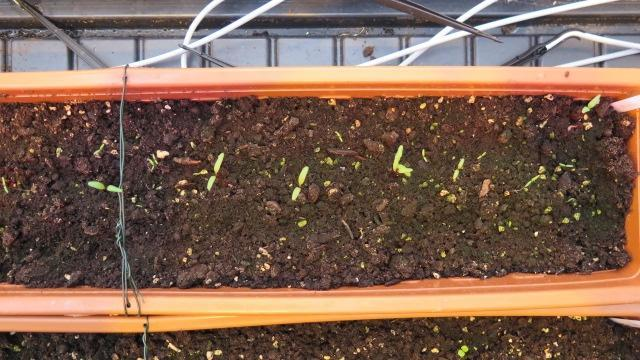crop: (204, 150, 226, 191), (288, 164, 309, 200), (82, 180, 123, 192)
weed: (455, 342, 469, 356)
